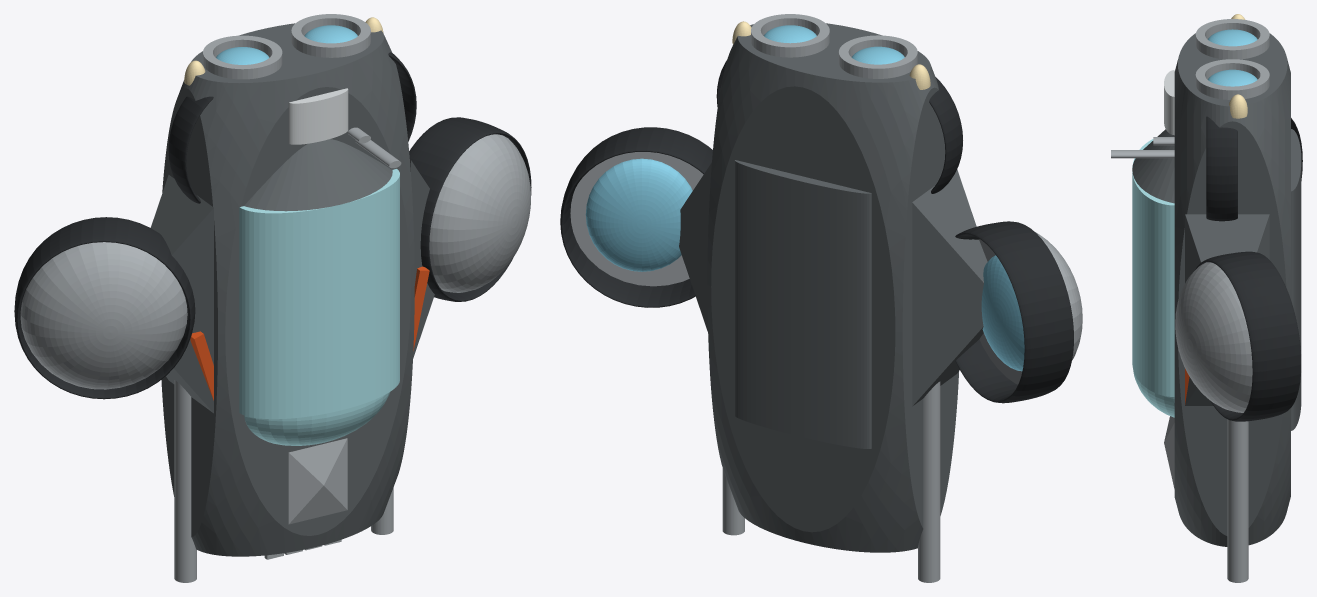
File: tinker.obj
3 views of the same model, side by side, from view 1: azimuth 30°, elevation 25°; view 2: azimuth 150°, elevation 25°; view 3: azimuth 270°, elevation 25° (orthographic). The views are drawn at different scales.
Parts seen in each view (by area): view 1: obj_0, obj_1, obj_8, obj_6, obj_9, obj_5, obj_3, obj_7, obj_30, obj_20, obj_2, obj_31 (+9 smaller); view 2: obj_0, obj_19, obj_5, obj_9, obj_11, obj_7, obj_6, obj_20, obj_10, obj_4, obj_16, obj_15 (+5 smaller); view 3: obj_0, obj_7, obj_6, obj_1, obj_4, obj_21, obj_12, obj_19, obj_16, obj_15, obj_3, obj_31 (+6 smaller).
Part boxes in pixels (x1=…): obj_0: x1=161, y1=23, x2=414, y2=556; obj_1: x1=239, y1=169, x2=399, y2=419; obj_8: x1=20, y1=242, x2=187, y2=389; obj_6: x1=429, y1=134, x2=530, y2=292; obj_9: x1=14, y1=217, x2=195, y2=399; obj_5: x1=150, y1=175, x2=213, y2=413; obj_3: x1=244, y1=139, x2=392, y2=211; obj_7: x1=409, y1=117, x2=531, y2=301; obj_30: x1=288, y1=438, x2=347, y2=524; obj_20: x1=174, y1=380, x2=196, y2=582; obj_2: x1=244, y1=392, x2=389, y2=445; obj_31: x1=288, y1=88, x2=348, y2=144; obj_0: x1=707, y1=23, x2=958, y2=552; obj_19: x1=734, y1=160, x2=871, y2=448; obj_5: x1=912, y1=169, x2=987, y2=406; obj_9: x1=955, y1=221, x2=1073, y2=403; obj_11: x1=585, y1=158, x2=692, y2=271; obj_7: x1=560, y1=127, x2=712, y2=307; obj_6: x1=570, y1=152, x2=703, y2=286; obj_20: x1=918, y1=381, x2=940, y2=582; obj_10: x1=981, y1=255, x2=1024, y2=371; obj_4: x1=679, y1=162, x2=711, y2=331; obj_16: x1=838, y1=35, x2=917, y2=78; obj_15: x1=751, y1=14, x2=829, y2=57; obj_0: x1=1174, y1=33, x2=1290, y2=546; obj_7: x1=1195, y1=251, x2=1301, y2=421; obj_6: x1=1175, y1=262, x2=1252, y2=412; obj_1: x1=1132, y1=139, x2=1174, y2=396; obj_4: x1=1185, y1=214, x2=1269, y2=405; obj_21: x1=1227, y1=419, x2=1248, y2=582; obj_12: x1=1206, y1=116, x2=1237, y2=221; obj_19: x1=1291, y1=129, x2=1301, y2=430; obj_16: x1=1195, y1=19, x2=1269, y2=59; obj_15: x1=1195, y1=59, x2=1269, y2=99; obj_3: x1=1132, y1=129, x2=1174, y2=203; obj_31: x1=1164, y1=70, x2=1174, y2=135.
Size of the model in its own units: 52 by 50 by 18.14.
